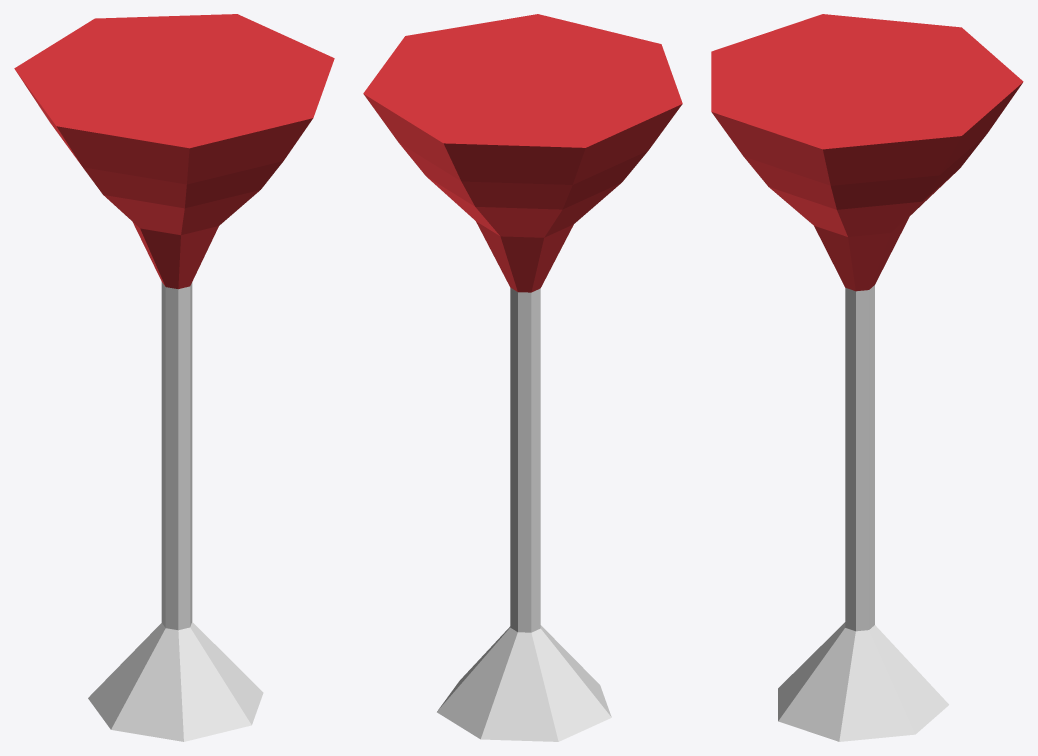
The model's file is finalwineglass.fbx.
3 views of the same model, side by side, from view 1: azimuth 30°, elevation 25°; view 2: azimuth 150°, elevation 25°; view 3: azimuth 270°, elevation 25° (orthographic).
Visible parts, largest first — view 1: Circle; view 2: Circle; view 3: Circle.
Boxes of the visible parts, bbox=[...] form: Circle: bbox=[14, 14, 334, 741]; Circle: bbox=[363, 14, 682, 741]; Circle: bbox=[711, 14, 1023, 741].
Size of the model in its own units: 356 by 763 by 347.
